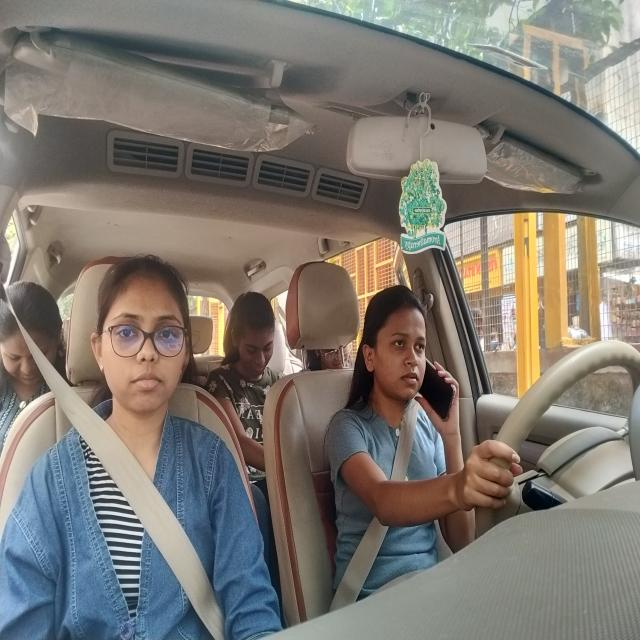mobile: (420, 354, 458, 428)
person: (92, 253, 190, 412), (358, 283, 427, 421), (0, 280, 69, 395), (222, 289, 277, 388)
